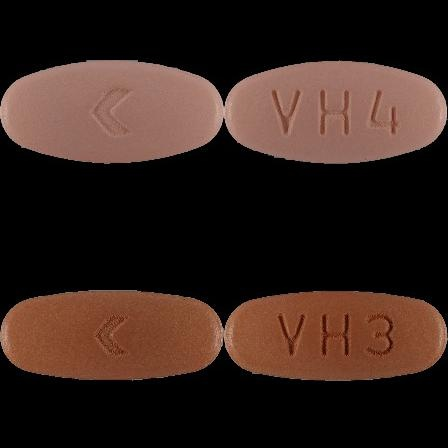42291-886: (0, 0, 224, 224)
